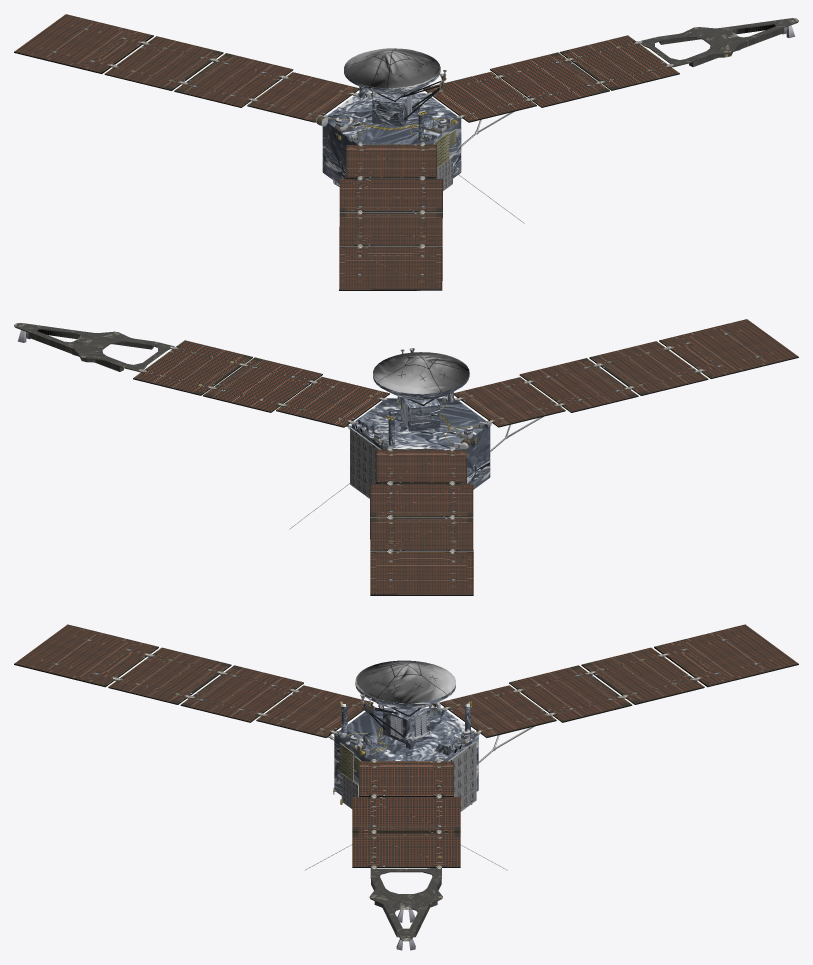
Rendered from juno.glb.
3 views of the same model, one above another, from view 1: azimuth 30°, elevation 25°; view 2: azimuth 150°, elevation 25°; view 3: azimuth 270°, elevation 25° (orthographic). The views are drawn at different scales.
Parts seen in each view (by area): view 1: shiny_panels_Geometry-Body.021, silver_foil_Geometry-Body.002, dish_top_Geometry-Mesh.002, solar_panels_Geometry-Body.006, tex_01_Geometry-Body.003, black_krinkle_Geometry-Body.007, dish_bottom_Geometry-Mesh; view 2: shiny_panels_Geometry-Body.021, silver_foil_Geometry-Body.002, dish_top_Geometry-Mesh.002, tex_01_Geometry-Body.003, solar_panels_Geometry-Body.006, black_krinkle_Geometry-Body.007; view 3: shiny_panels_Geometry-Body.021, silver_foil_Geometry-Body.002, tex_01_Geometry-Body.003, dish_top_Geometry-Mesh.002, solar_panels_Geometry-Body.006, black_krinkle_Geometry-Body.007.
Boxes of the visible parts, x1,y1,x2,y2 form: shiny_panels_Geometry-Body.021: (14, 14, 679, 289); silver_foil_Geometry-Body.002: (322, 87, 461, 186); dish_top_Geometry-Mesh.002: (344, 48, 440, 88); solar_panels_Geometry-Body.006: (417, 18, 798, 290); tex_01_Geometry-Body.003: (110, 25, 794, 247); black_krinkle_Geometry-Body.007: (14, 35, 679, 290); dish_bottom_Geometry-Mesh: (344, 69, 440, 94); shiny_panels_Geometry-Body.021: (133, 319, 798, 594); silver_foil_Geometry-Body.002: (351, 391, 490, 489); dish_top_Geometry-Mesh.002: (373, 352, 469, 393); tex_01_Geometry-Body.003: (17, 330, 702, 552); solar_panels_Geometry-Body.006: (14, 323, 174, 371); black_krinkle_Geometry-Body.007: (133, 340, 798, 595); shiny_panels_Geometry-Body.021: (14, 624, 798, 866); silver_foil_Geometry-Body.002: (334, 704, 478, 800); tex_01_Geometry-Body.003: (112, 653, 699, 950); dish_top_Geometry-Mesh.002: (355, 660, 455, 703); solar_panels_Geometry-Body.006: (369, 868, 442, 941); black_krinkle_Geometry-Body.007: (14, 647, 798, 867).
Bounding box in the file's own units: 17.65 × 4.26 × 18.54.
Materials: 9 (9 with a texture image).
